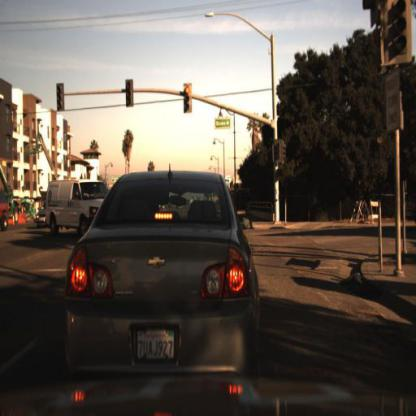car: (64, 170, 262, 393), (41, 177, 111, 239)
trafficLight: (383, 2, 414, 65), (184, 82, 194, 117), (56, 84, 65, 111)
trafficLight-Red: (125, 79, 135, 110), (274, 140, 285, 165)
truck: (1, 185, 20, 229)
